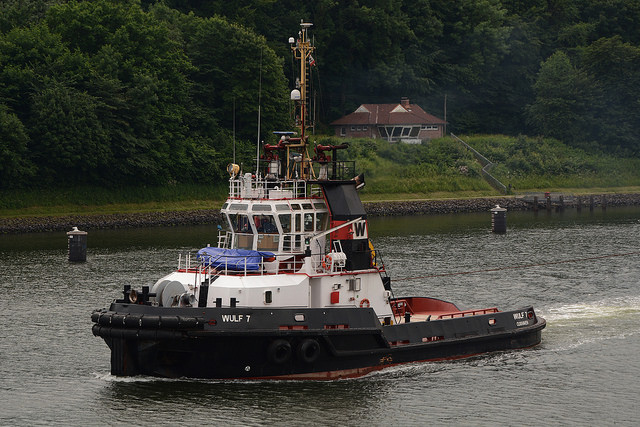tug_boat: (86, 82, 549, 389)
